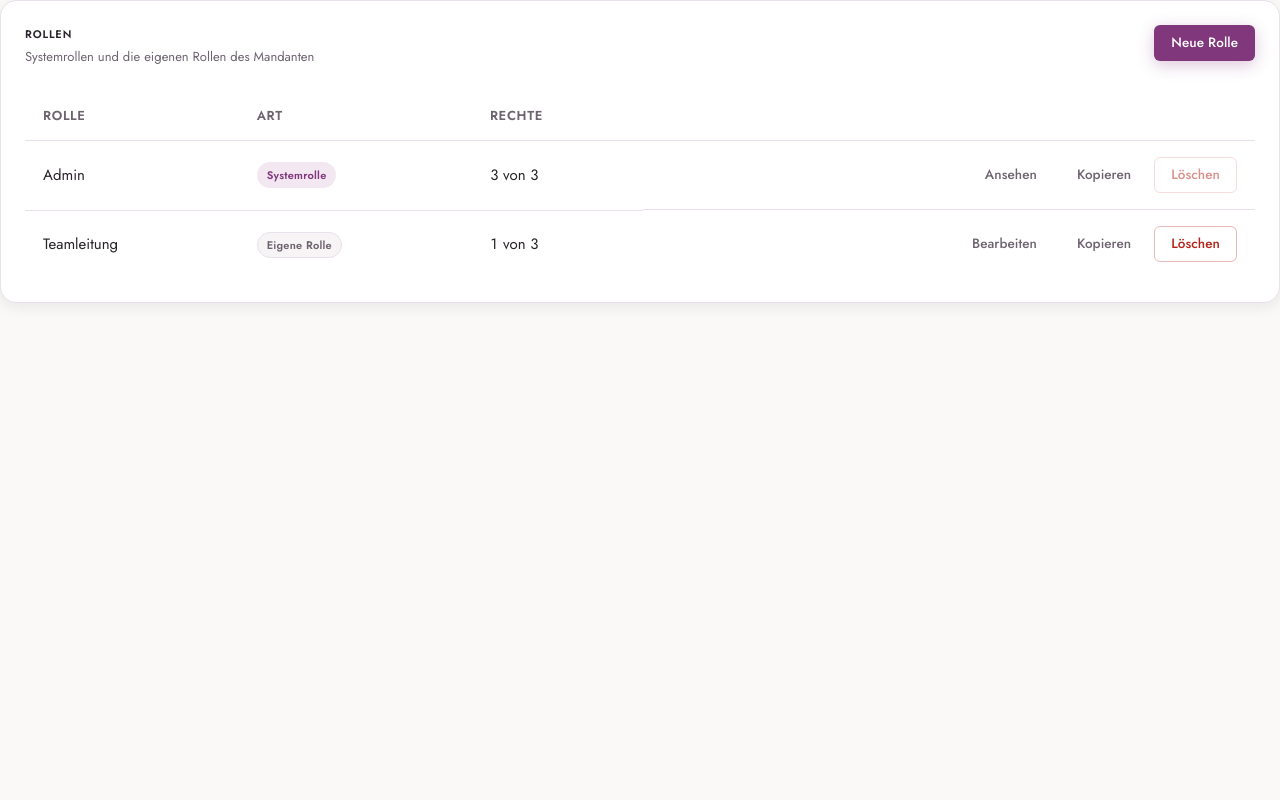
Scenario: RolesTab (Issue #83) › delete goes through a confirmation; a rejection is shown, never thrown
Expected: the text "Teamleitung" is shown, 25,210 -> 239,278
Click the button "Löschen" in the row of "Teamleitung": (1196, 244) 1154,226 -> 1237,262
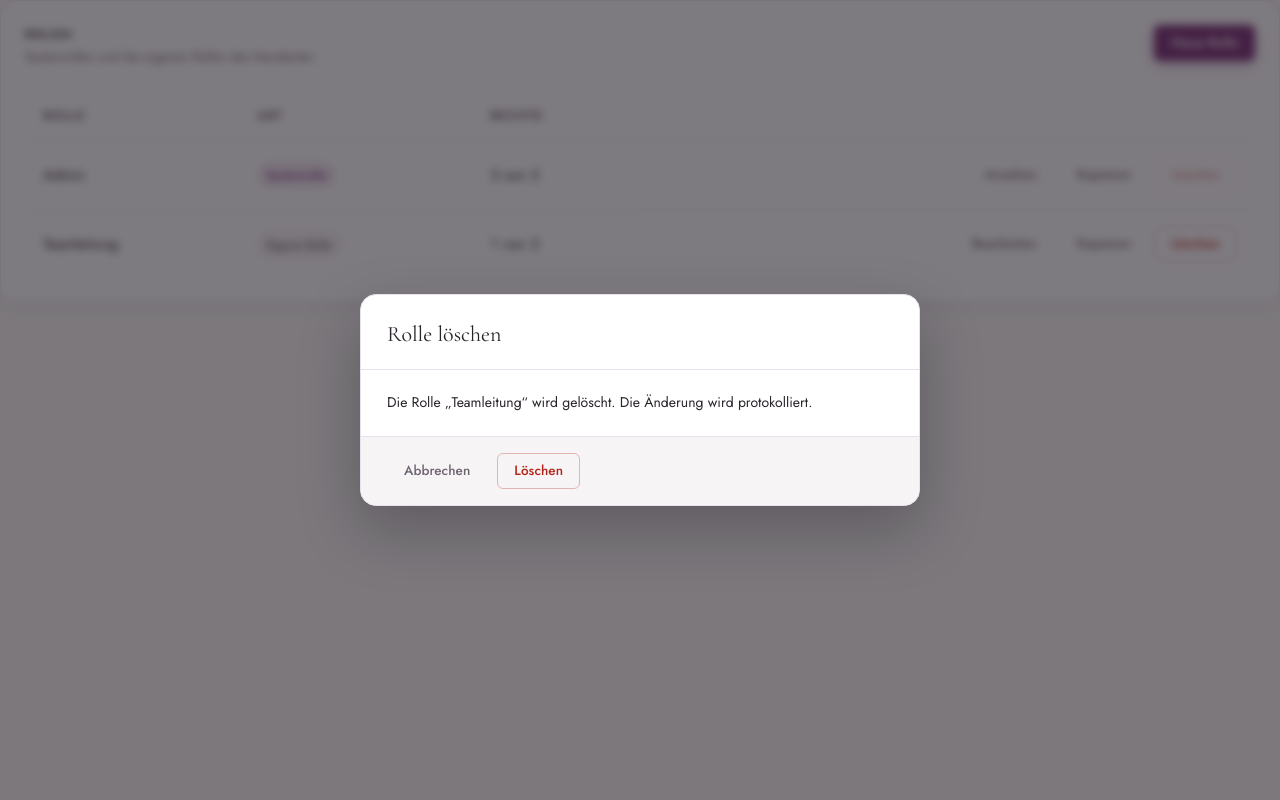
Result: the text "Die Rolle „Teamleitung“ wird gelöscht" is shown at 387,392 -> 812,412
Click the button "Löschen": (539, 471) 497,453 -> 580,489
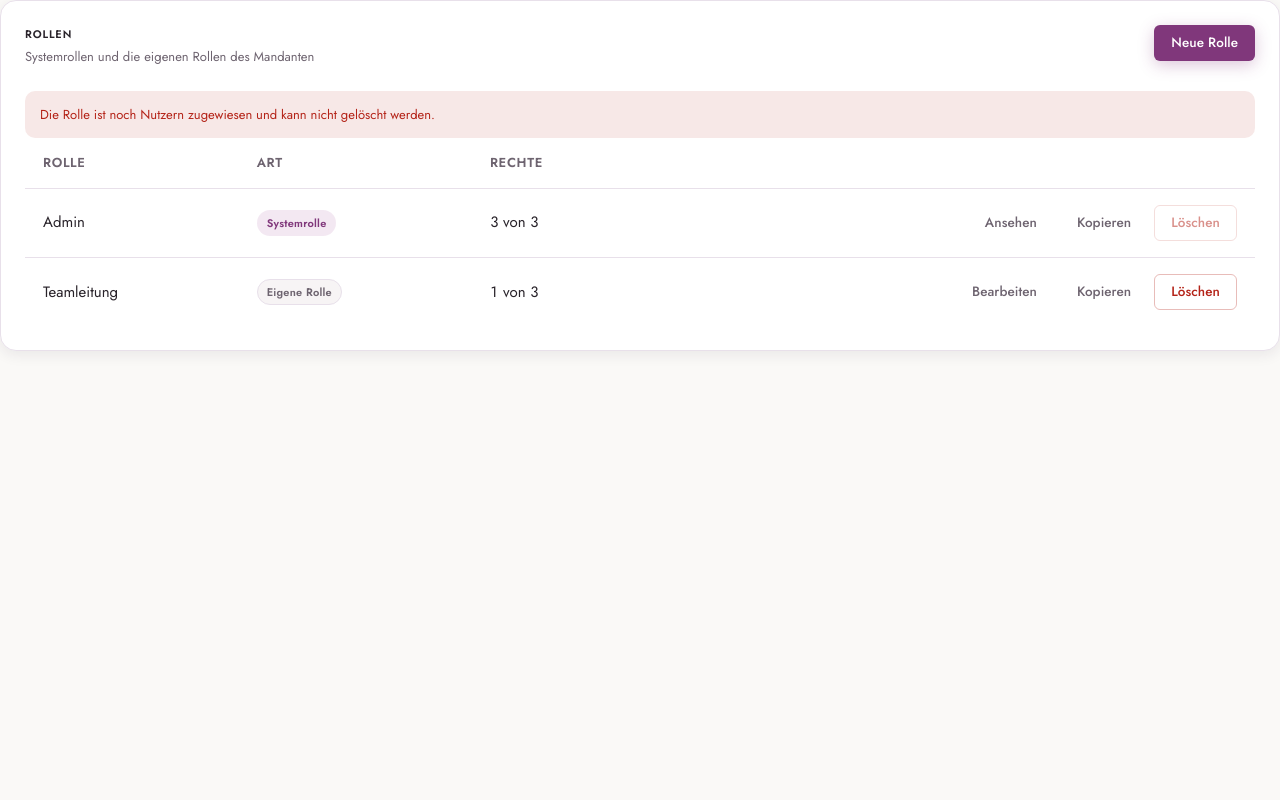
Result: the message reads "Die Rolle ist noch Nutzern zugewiesen und kann nicht gelöscht werden." at 40,105 -> 435,124
Click the button "Löschen" in the row of "Teamleitung": (1196, 292) 1154,274 -> 1237,310
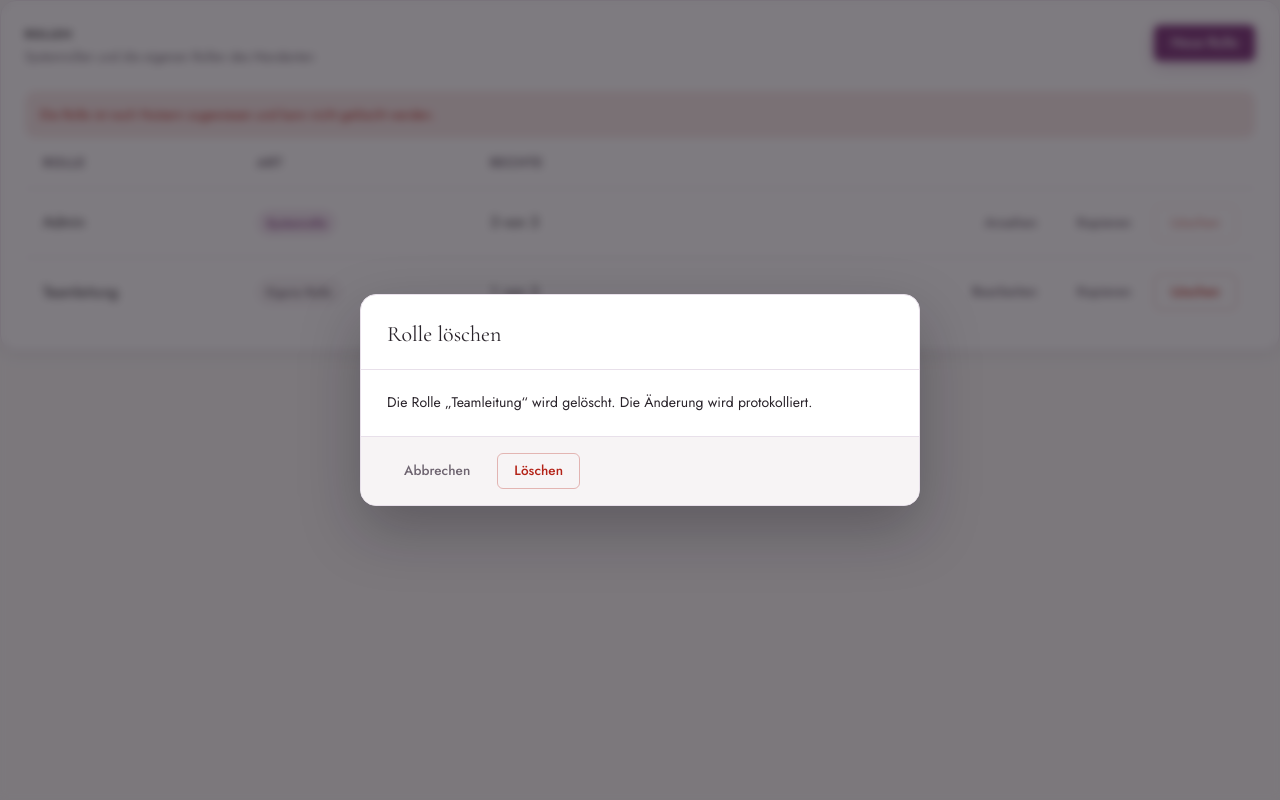
Click the button "Löschen": (539, 471) 497,453 -> 580,489
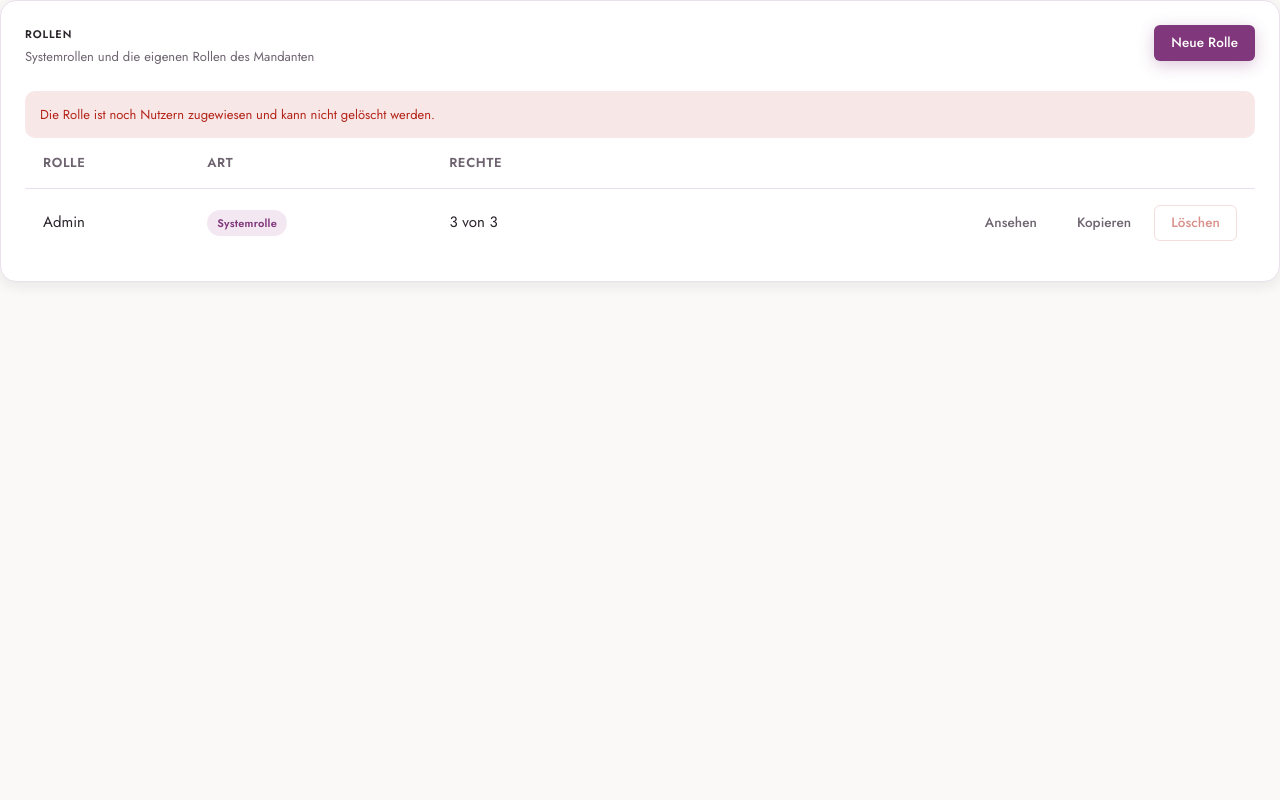
Result: the text "Teamleitung" is gone
